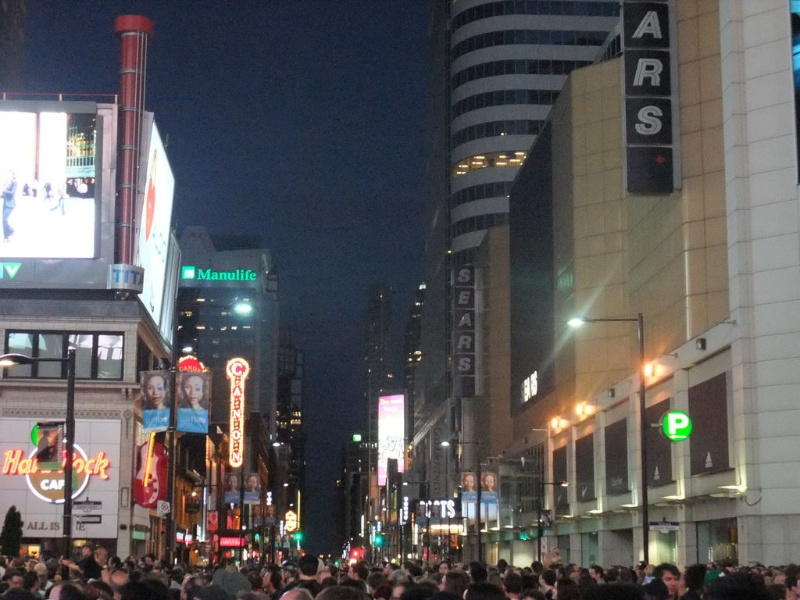parking: (656, 408, 696, 444)
